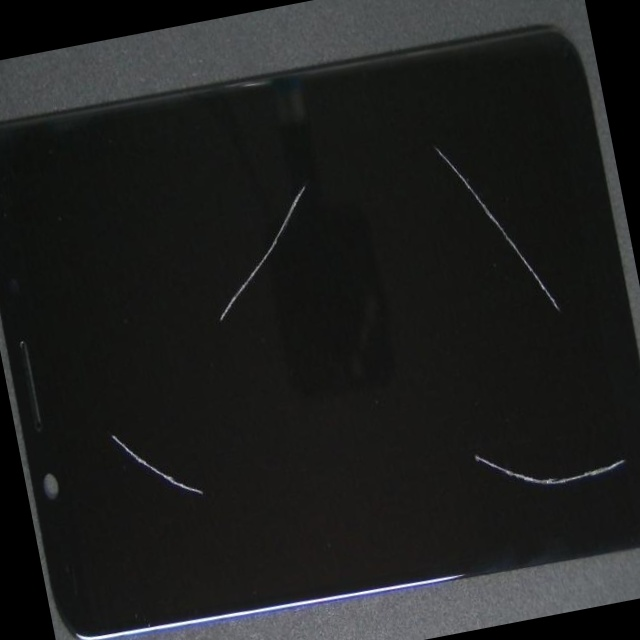scratch: (251, 144, 640, 538), (285, 215, 640, 640), (178, 16, 439, 325), (131, 306, 289, 640)
